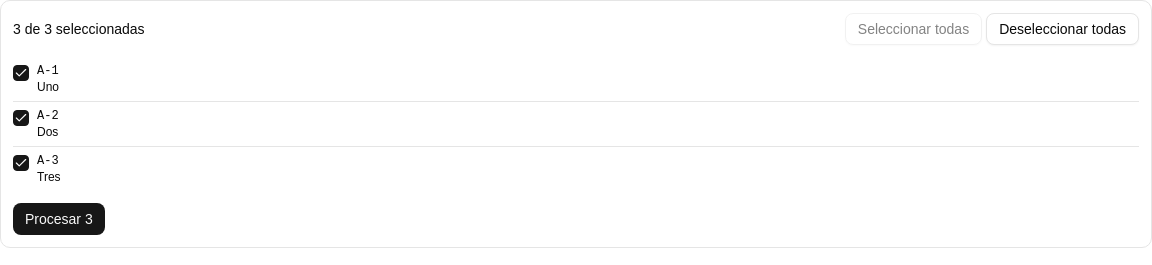
Test: PendientesPreview › 'Deseleccionar todas' vacía la selección y deshabilita el botón de procesar
Click the button "Deseleccionar todas": {"x": 1063, "y": 29} [986, 13, 1139, 45]
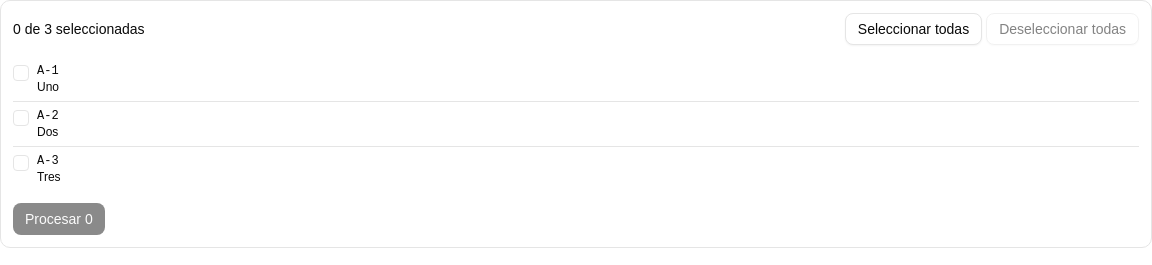
Check: the text "0 de 3 seleccionadas" is shown, box [13, 19, 145, 39]
Check: the button "Procesar 0" is disabled, box [13, 203, 105, 235]
